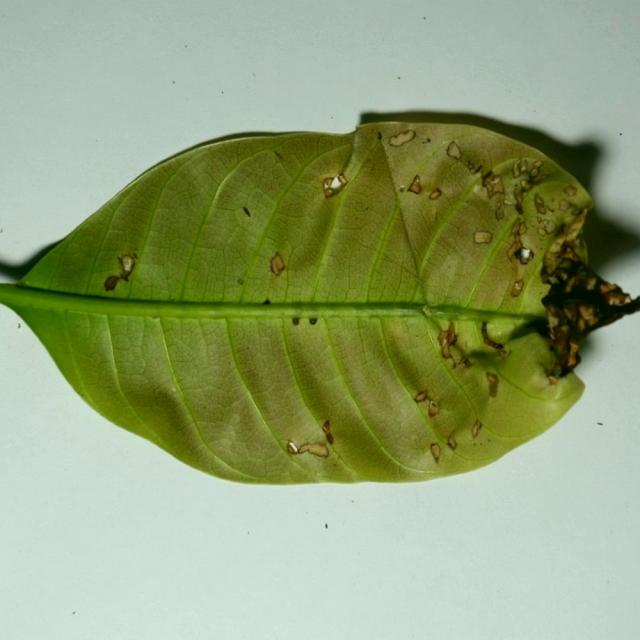Anthracnose: (541, 205, 589, 278), (438, 319, 494, 376), (274, 421, 337, 463), (505, 159, 546, 216), (544, 316, 581, 375), (446, 418, 482, 456), (103, 253, 137, 292), (482, 171, 508, 218), (509, 225, 535, 267), (405, 173, 440, 201), (321, 174, 348, 199), (545, 302, 565, 332), (439, 328, 457, 361), (416, 391, 440, 415), (577, 302, 600, 327), (388, 129, 415, 147), (605, 289, 630, 306), (270, 253, 286, 276), (464, 158, 483, 177), (445, 141, 462, 160), (481, 170, 497, 188), (510, 279, 524, 298), (291, 317, 320, 326), (473, 231, 493, 244), (512, 159, 525, 178), (448, 430, 460, 450), (430, 442, 441, 462), (286, 440, 300, 454), (531, 160, 543, 176), (422, 305, 435, 319), (564, 185, 577, 197), (471, 182, 484, 194), (547, 373, 558, 385), (274, 150, 284, 160), (242, 206, 251, 217), (292, 318, 299, 325), (238, 278, 244, 285), (133, 252, 139, 259), (399, 185, 405, 192), (263, 299, 270, 305), (377, 132, 382, 140)
Mango: (0, 112, 639, 488)
